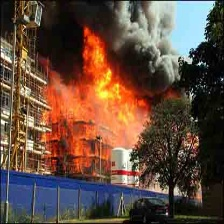fire: (49, 34, 147, 172)
smoke: (42, 1, 185, 83)
